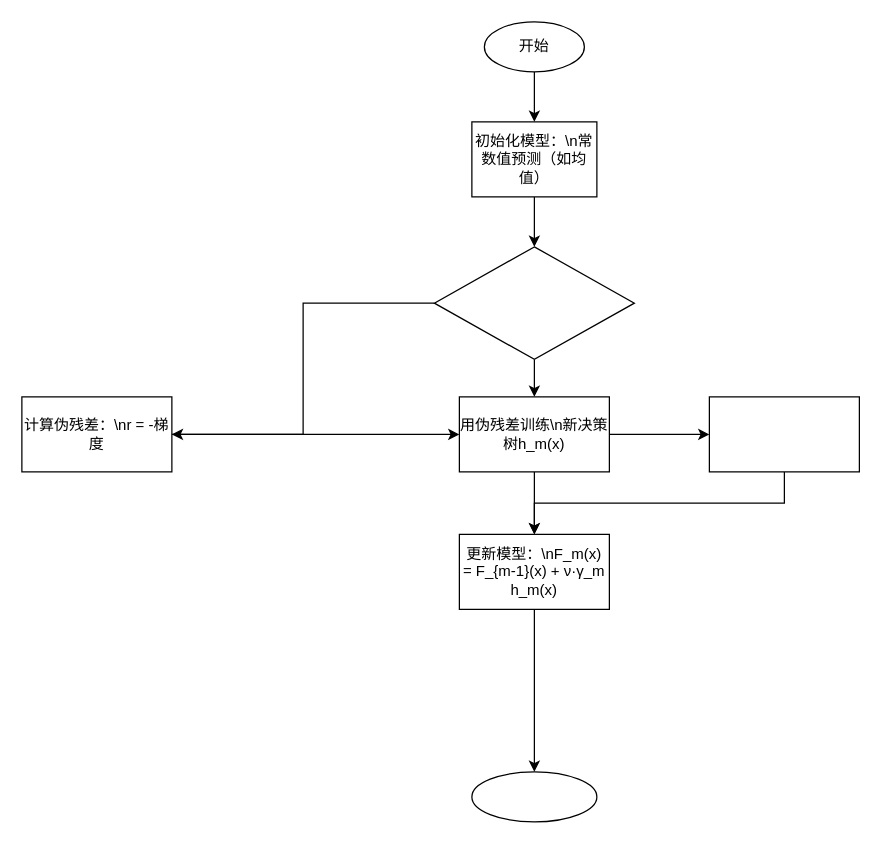
The diagram is 881 pixels wide and 844 high, and some of its shapes have lost their labels. The centre of each missing label's shape, as x and y in pixels:
"循环迭代（m=1到M）" goes at (x=533, y=302).
"计算最优权重γ_m\n（线搜索）" goes at (x=783, y=434).
"输出最终模型：\nF_M(x)" goes at (x=534, y=796).
